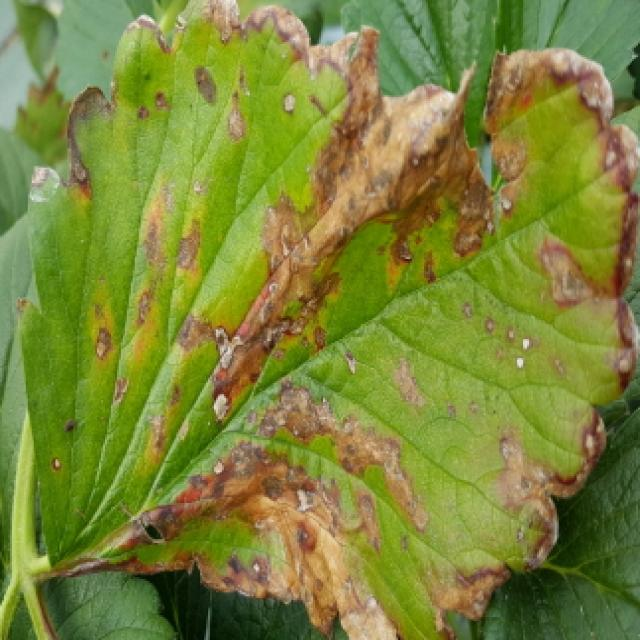Angular Leafspot: (13, 0, 640, 640)
